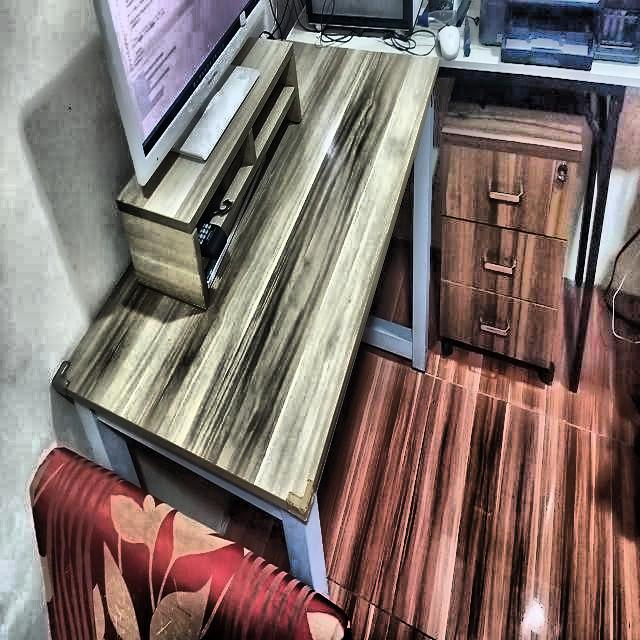mesa: (66, 32, 436, 528)
